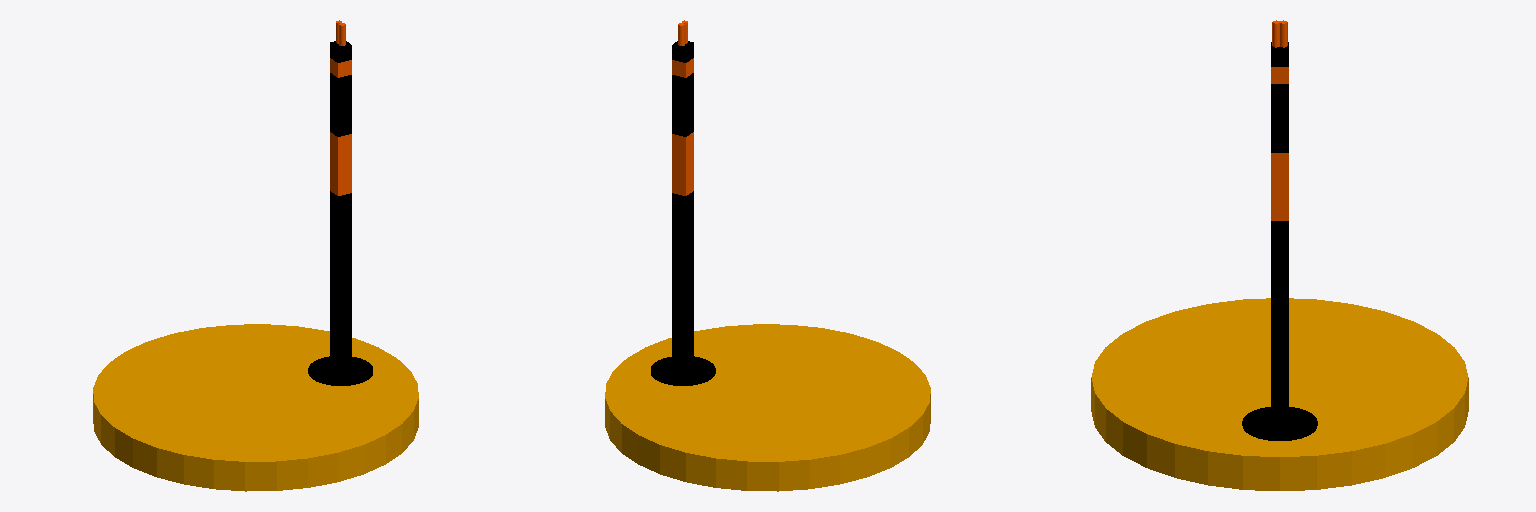
The robot description file, URDF, robot "testarm":
<?xml version="1.0" encoding="utf-8" ?>
<!-- =================================================================================== -->
<!-- |    This document was autogenerated by xacro from [local-path]/Dokumente/TUM/WARRExploration/ROS/Main_WS/src/Rover_II/rover_config/urdf/testarm.xacro | -->
<!-- |    EDITING THIS FILE BY HAND IS NOT RECOMMENDED                                 | -->
<!-- =================================================================================== -->
<robot name="testarm" xmlns:xacro="http://www.ros.org/wiki/xacro">
    <material name="black">
        <color rgba="0.0 0.0 0.0 1.0" />
    </material>
    <material name="orange">
        <color rgba="1.0 0.4 0.0 1.0" />
    </material>
    <link name="base_link">
        <collision>
            <origin rpy="0 0 0" xyz="0.0 0.0 0.0" />
            <geometry>
                <cylinder length="0.1" radius="0.5" />
            </geometry>
        </collision>
        <visual>
            <origin rpy="0 0 0" xyz="0.0 0.0 0.0" />
            <geometry>
                <cylinder length="0.1" radius="0.5" />
            </geometry>
        </visual>
        
<inertial>
            <origin rpy="0 0 0" xyz="0 0 0" />
            <mass value="100" />
            <inertia ixx="6.33333333333" ixy="0" ixz="0" iyy="6.33333333333" iyz="0" izz="25.0" />
        </inertial>

    </link>
    <joint name="joint_base" type="revolute">
        <parent link="base_link" />
        <child link="link0" />
        <origin rpy="0 0 0" xyz="0.3 0 0.05" />
        <axis xyz="0 0 1" />
        <limit effort="300" lower="-0.78539816339" upper="0.78539816339" velocity="1.571" />
    </joint>
    <link name="link0">
        <collision>
            <origin rpy="0 0 0" xyz="0 0 0.005" />
            <geometry>
                <cylinder length="0.01" radius="0.1" />
            </geometry>
        </collision>
        <visual>
            <origin rpy="0 0 0" xyz="0 0 0.005" />
            <geometry>
                <cylinder length="0.01" radius="0.1" />
            </geometry>
            <material name="black" />
        </visual>
        
<inertial>
            <origin rpy="0 0 0" xyz="0 0 0.005" />
            <mass value="1" />
            <inertia ixx="0.00250833333333" ixy="0" ixz="0" iyy="0.00250833333333" iyz="0" izz="0.05" />
        </inertial>

    </link>
    <joint name="joint0" type="revolute">
        <parent link="link0" />
        <child link="link1" />
        <origin rpy="0 0 0" xyz="0 0 0.01" />
        <axis xyz="0 1 0" />
        <limit effort="300" lower="-0.78539816339" upper="0.78539816339" velocity="1.571" />
    </joint>
    <link name="link1">
        <collision>
            <origin rpy="0 0 0" xyz="0 0 0.3" />
            <geometry>
                <box size="0.05 0.05 0.6" />
            </geometry>
        </collision>
        <visual>
            <origin rpy="0 0 0" xyz="0 0 0.3" />
            <geometry>
                <box size="0.05 0.05 0.6" />
            </geometry>
            <material name="black" />
        </visual>
        
<inertial>
            <origin rpy="0 0 0" xyz="0 0 0.3" />
            <mass value="1" />
            <inertia ixx="0.03020832125" ixy="0.0" ixz="0.0" iyy="0.03020832125" iyz="0.0" izz="0.0004166665" />
        </inertial>

    </link>
    <joint name="joint1" type="revolute">
        <parent link="link1" />
        <child link="link2" />
        <origin rpy="0 0 0" xyz="0 0 0.6" />
        <axis xyz="0 1 0" />
        <limit effort="300" lower="-0.78539816339" upper="0.78539816339" velocity="1.571" />
    </joint>
    <link name="link2">
        <collision>
            <origin rpy="0 0 0" xyz="0 0 0.1" />
            <geometry>
                <box size="0.05 0.05 0.2" />
            </geometry>
        </collision>
        <visual>
            <origin rpy="0 0 0" xyz="0 0 0.1" />
            <geometry>
                <box size="0.05 0.05 0.2" />
            </geometry>
            <material name="orange" />
        </visual>
        
<inertial>
            <origin rpy="0 0 0" xyz="0 0 0.1" />
            <mass value="1" />
            <inertia ixx="0.00354166525" ixy="0.0" ixz="0.0" iyy="0.00354166525" iyz="0.0" izz="0.0004166665" />
        </inertial>

    </link>
    <joint name="joint2" type="revolute">
        <parent link="link2" />
        <child link="link3" />
        <origin rpy="0 0 0" xyz="0 0 0.2" />
        <axis xyz="0 0 1" />
        <limit effort="300" lower="-0.78539816339" upper="0.78539816339" velocity="1.571" />
    </joint>
    <link name="link3">
        <collision>
            <origin rpy="0 0 0" xyz="0 0 0.1" />
            <geometry>
                <box size="0.05 0.05 0.2" />
            </geometry>
        </collision>
        <visual>
            <origin rpy="0 0 0" xyz="0 0 0.1" />
            <geometry>
                <box size="0.05 0.05 0.2" />
            </geometry>
            <material name="black" />
        </visual>
        
<inertial>
            <origin rpy="0 0 0" xyz="0 0 0.1" />
            <mass value="1" />
            <inertia ixx="0.00354166525" ixy="0.0" ixz="0.0" iyy="0.00354166525" iyz="0.0" izz="0.0004166665" />
        </inertial>

    </link>
    <joint name="joint3" type="revolute">
        <parent link="link3" />
        <child link="link4" />
        <origin rpy="0 0 0" xyz="0 0 0.2" />
        <axis xyz="0 1 0" />
        <limit effort="300" lower="-0.78539816339" upper="0.78539816339" velocity="1.571" />
    </joint>
    <link name="link4">
        <collision>
            <origin rpy="0 0 0" xyz="0 0 0.025" />
            <geometry>
                <box size="0.05 0.05 0.05" />
            </geometry>
        </collision>
        <visual>
            <origin rpy="0 0 0" xyz="0 0 0.025" />
            <geometry>
                <box size="0.05 0.05 0.05" />
            </geometry>
            <material name="orange" />
        </visual>
        
<inertial>
            <origin rpy="0 0 0" xyz="0 0 0.025" />
            <mass value="1" />
            <inertia ixx="0.0004166665" ixy="0.0" ixz="0.0" iyy="0.0004166665" iyz="0.0" izz="0.0004166665" />
        </inertial>

    </link>
    <joint name="joint4" type="revolute">
        <parent link="link4" />
        <child link="link5" />
        <origin rpy="0 0 0" xyz="0 0 0.05" />
        <axis xyz="0 0 1" />
        <limit effort="300" lower="-0.78539816339" upper="0.78539816339" velocity="1.571" />
    </joint>
    <link name="link5">
        <collision>
            <origin rpy="0 0 0" xyz="0 0 0.025" />
            <geometry>
                <box size="0.05 0.05 0.05" />
            </geometry>
        </collision>
        <visual>
            <origin rpy="0 0 0" xyz="0 0 0.025" />
            <geometry>
                <box size="0.05 0.05 0.05" />
            </geometry>
            <material name="black" />
        </visual>
        
<inertial>
            <origin rpy="0 0 0" xyz="0 0 0.025" />
            <mass value="1" />
            <inertia ixx="0.0004166665" ixy="0.0" ixz="0.0" iyy="0.0004166665" iyz="0.0" izz="0.0004166665" />
        </inertial>

    </link>
    <joint name="joint5" type="revolute">
        <parent link="link5" />
        <child link="gripper_left" />
        <origin rpy="0 0 0" xyz="0 0.01 0.05" />
        <axis xyz="1 0 0" />
        <limit effort="300" lower="-0.78539816339" upper="0.78539816339" velocity="1.571" />
    </joint>
    <joint name="joint6" type="revolute">
        <parent link="link5" />
        <child link="gripper_right" />
        <origin rpy="0 0 0" xyz="0 -0.01 0.05" />
        <axis xyz="1 0 0" />
        <limit effort="300" lower="-0.78539816339" upper="0.78539816339" velocity="1.571" />
    </joint>
    <link name="gripper_left">
        <collision>
            <origin rpy="0 0 0" xyz="0 0 0.035" />
            <geometry>
                <cylinder length="0.07" radius="0.01" />
            </geometry>
        </collision>
        <visual>
            <origin rpy="0 0 0" xyz="0 0 0.035" />
            <geometry>
                <cylinder length="0.07" radius="0.01" />
            </geometry>
            <material name="orange" />
        </visual>
        
<inertial>
            <origin rpy="0 0 0" xyz="0 0 0.035" />
            <mass value="1" />
            <inertia ixx="0.000433333333333" ixy="0" ixz="0" iyy="0.000433333333333" iyz="0" izz="0.005" />
        </inertial>

    </link>
    <link name="gripper_right">
        <collision>
            <origin rpy="0 0 0" xyz="0 0 0.035" />
            <geometry>
                <cylinder length="0.07" radius="0.01" />
            </geometry>
        </collision>
        <visual>
            <origin rpy="0 0 0" xyz="0 0 0.035" />
            <geometry>
                <cylinder length="0.07" radius="0.01" />
            </geometry>
            <material name="orange" />
        </visual>
        
<inertial>
            <origin rpy="0 0 0" xyz="0 0 0.035" />
            <mass value="1" />
            <inertia ixx="0.000433333333333" ixy="0" ixz="0" iyy="0.000433333333333" iyz="0" izz="0.005" />
        </inertial>

    </link>
    <!-- Transmission is important to link the joint and the controller -->
    
<transmission name="joint_base_trans">
        <type>transmission_interface/SimpleTransmission</type>
        <joint name="joint_base">
            <hardwareInterface>hardware_interface/EffortJointInterface</hardwareInterface>
        </joint>
        <actuator name="joint_base_motor">
            <mechanicalReduction>1</mechanicalReduction>
        </actuator>
    </transmission>
    <transmission name="joint0_trans">
        <type>transmission_interface/SimpleTransmission</type>
        <joint name="joint0">
            <hardwareInterface>hardware_interface/EffortJointInterface</hardwareInterface>
        </joint>
        <actuator name="joint0_motor">
            <mechanicalReduction>1</mechanicalReduction>
        </actuator>
    </transmission>
    <transmission name="joint1_trans">
        <type>transmission_interface/SimpleTransmission</type>
        <joint name="joint1">
            <hardwareInterface>hardware_interface/EffortJointInterface</hardwareInterface>
        </joint>
        <actuator name="joint1_motor">
            <mechanicalReduction>1</mechanicalReduction>
        </actuator>
    </transmission>
    <transmission name="joint2_trans">
        <type>transmission_interface/SimpleTransmission</type>
        <joint name="joint2">
            <hardwareInterface>hardware_interface/EffortJointInterface</hardwareInterface>
        </joint>
        <actuator name="joint2_motor">
            <mechanicalReduction>1</mechanicalReduction>
        </actuator>
    </transmission>
    <transmission name="joint3_trans">
        <type>transmission_interface/SimpleTransmission</type>
        <joint name="joint3">
            <hardwareInterface>hardware_interface/EffortJointInterface</hardwareInterface>
        </joint>
        <actuator name="joint3_motor">
            <mechanicalReduction>1</mechanicalReduction>
        </actuator>
    </transmission>
    <transmission name="joint4_trans">
        <type>transmission_interface/SimpleTransmission</type>
        <joint name="joint4">
            <hardwareInterface>hardware_interface/EffortJointInterface</hardwareInterface>
        </joint>
        <actuator name="joint4_motor">
            <mechanicalReduction>1</mechanicalReduction>
        </actuator>
    </transmission>
    <transmission name="joint5_trans">
        <type>transmission_interface/SimpleTransmission</type>
        <joint name="joint5">
            <hardwareInterface>hardware_interface/EffortJointInterface</hardwareInterface>
        </joint>
        <actuator name="joint5_motor">
            <mechanicalReduction>1</mechanicalReduction>
        </actuator>
    </transmission>
    <transmission name="joint6_trans">
        <type>transmission_interface/SimpleTransmission</type>
        <joint name="joint6">
            <hardwareInterface>hardware_interface/EffortJointInterface</hardwareInterface>
        </joint>
        <actuator name="joint6_motor">
            <mechanicalReduction>1</mechanicalReduction>
        </actuator>
    </transmission>
    <gazebo>
        <plugin filename="libgazebo_ros_joint_state_publisher.so" name="joint_state_publisher">
            <jointName>joint_base, joint0, joint1, joint2, joint3, joint4, joint5, joint6</jointName>
            <robotNameSpace>/</robotNameSpace>
            <updateRate>100</updateRate>
            <alwaysOn>true</alwaysOn>
        </plugin>
    </gazebo>
    <!-- <gazebo>
      <plugin name="gazebo_ros_control" filename="libgazebo_ros_control.so">
         <robotNamespace>/</robotNamespace>
         <robotSimType>gazebo_ros_control/DefaultRobotHWSim</robotSimType>
         <legacyModeNS>true</legacyModeNS>
      </plugin>
   </gazebo> -->
    <gazebo>
        <plugin filename="libgazebo_ros_control.so" name="gazebo_ros_control">
            <robotNamespace>/nimrod</robotNamespace>
        </plugin>
    </gazebo>
    <transmission name="trans_joint_base">
        <type>transmission_interface/SimpleTransmission</type>
        <joint name="joint_base">
            <hardwareInterface>hardware_interface/EffortJointInterface</hardwareInterface>
        </joint>
        <actuator name="joint_base_motor">
            <hardwareInterface>hardware_interface/EffortJointInterface</hardwareInterface>
            <mechanicalReduction>1</mechanicalReduction>
        </actuator>
    </transmission>
    <transmission name="trans_joint0">
        <type>transmission_interface/SimpleTransmission</type>
        <joint name="joint0">
            <hardwareInterface>hardware_interface/EffortJointInterface</hardwareInterface>
        </joint>
        <actuator name="joint0_motor">
            <hardwareInterface>hardware_interface/EffortJointInterface</hardwareInterface>
            <mechanicalReduction>1</mechanicalReduction>
        </actuator>
    </transmission>
    <transmission name="trans_joint1">
        <type>transmission_interface/SimpleTransmission</type>
        <joint name="joint1">
            <hardwareInterface>hardware_interface/EffortJointInterface</hardwareInterface>
        </joint>
        <actuator name="joint1_motor">
            <hardwareInterface>hardware_interface/EffortJointInterface</hardwareInterface>
            <mechanicalReduction>1</mechanicalReduction>
        </actuator>
    </transmission>
    <transmission name="trans_joint2">
        <type>transmission_interface/SimpleTransmission</type>
        <joint name="joint2">
            <hardwareInterface>hardware_interface/EffortJointInterface</hardwareInterface>
        </joint>
        <actuator name="joint2_motor">
            <hardwareInterface>hardware_interface/EffortJointInterface</hardwareInterface>
            <mechanicalReduction>1</mechanicalReduction>
        </actuator>
    </transmission>
    <transmission name="trans_joint3">
        <type>transmission_interface/SimpleTransmission</type>
        <joint name="joint3">
            <hardwareInterface>hardware_interface/EffortJointInterface</hardwareInterface>
        </joint>
        <actuator name="joint3_motor">
            <hardwareInterface>hardware_interface/EffortJointInterface</hardwareInterface>
            <mechanicalReduction>1</mechanicalReduction>
        </actuator>
    </transmission>
    <transmission name="trans_joint4">
        <type>transmission_interface/SimpleTransmission</type>
        <joint name="joint4">
            <hardwareInterface>hardware_interface/EffortJointInterface</hardwareInterface>
        </joint>
        <actuator name="joint4_motor">
            <hardwareInterface>hardware_interface/EffortJointInterface</hardwareInterface>
            <mechanicalReduction>1</mechanicalReduction>
        </actuator>
    </transmission>
    <transmission name="trans_joint5">
        <type>transmission_interface/SimpleTransmission</type>
        <joint name="joint5">
            <hardwareInterface>hardware_interface/EffortJointInterface</hardwareInterface>
        </joint>
        <actuator name="joint5_motor">
            <hardwareInterface>hardware_interface/EffortJointInterface</hardwareInterface>
            <mechanicalReduction>1</mechanicalReduction>
        </actuator>
    </transmission>
    <transmission name="trans_joint6">
        <type>transmission_interface/SimpleTransmission</type>
        <joint name="joint6">
            <hardwareInterface>hardware_interface/EffortJointInterface</hardwareInterface>
        </joint>
        <actuator name="joint6_motor">
            <hardwareInterface>hardware_interface/EffortJointInterface</hardwareInterface>
            <mechanicalReduction>1</mechanicalReduction>
        </actuator>
    </transmission>
    <gazebo>
        <plugin name="gazebo_ros_control" filename="libgazebo_ros_control.so">
            <robotNamespace>/</robotNamespace>
        </plugin>
    </gazebo>
</robot> 

--- Facts derived from the render (not from the file) ---
3 views of the same robot in one strip: view 1: azimuth 30°, elevation 25°; view 2: azimuth 150°, elevation 25°; view 3: azimuth 270°, elevation 25° (orthographic).
Robot: testarm — 9 links, 8 joints (8 revolute); root link base_link; default pose: all joints at 0.
Links seen in each view (by area): view 1: base_link, link1, link3, link2, link0; view 2: base_link, link1, link3, link2, link0; view 3: base_link, link1, link0, link3, link2.
Link boxes in pixels (x1=…): base_link: x1=93, y1=324, x2=418, y2=491; link1: x1=330, y1=191, x2=351, y2=373; link3: x1=330, y1=73, x2=351, y2=136; link2: x1=330, y1=132, x2=351, y2=195; link0: x1=308, y1=356, x2=372, y2=385; base_link: x1=605, y1=324, x2=930, y2=491; link1: x1=672, y1=191, x2=693, y2=373; link3: x1=672, y1=73, x2=693, y2=136; link2: x1=672, y1=132, x2=693, y2=195; link0: x1=651, y1=356, x2=715, y2=385; base_link: x1=1091, y1=298, x2=1468, y2=490; link1: x1=1271, y1=221, x2=1288, y2=425; link0: x1=1242, y1=407, x2=1317, y2=440; link3: x1=1271, y1=84, x2=1288, y2=152; link2: x1=1271, y1=153, x2=1288, y2=220.
Bounding box of the posed robot: 1 × 1 × 1.28 m (x, y, z).
Geometry: primitives only (box / cylinder / sphere), no mesh files.